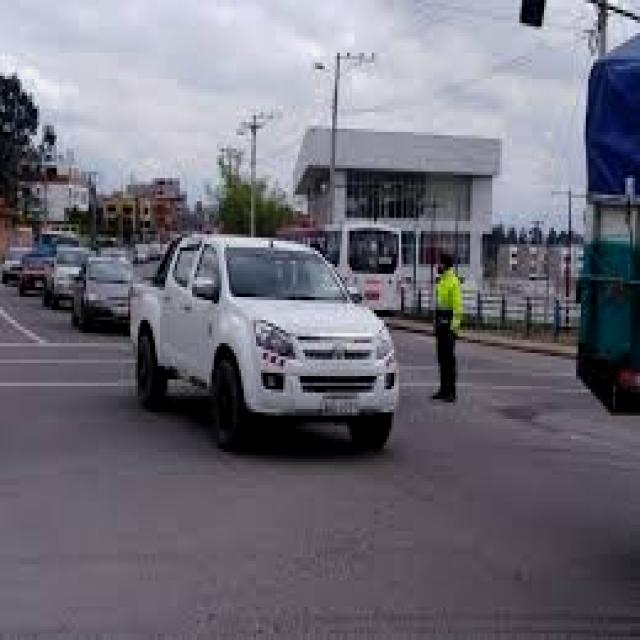CMT: (131, 235, 400, 455)
